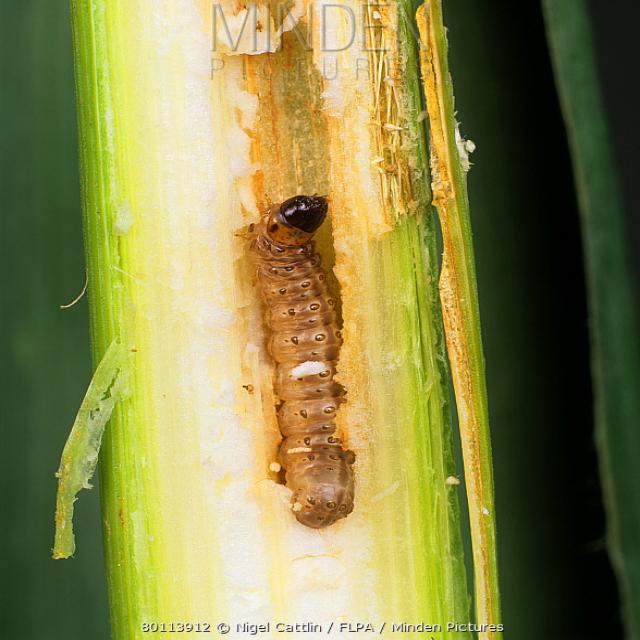cornborer-Larva-: (208, 179, 390, 533)
